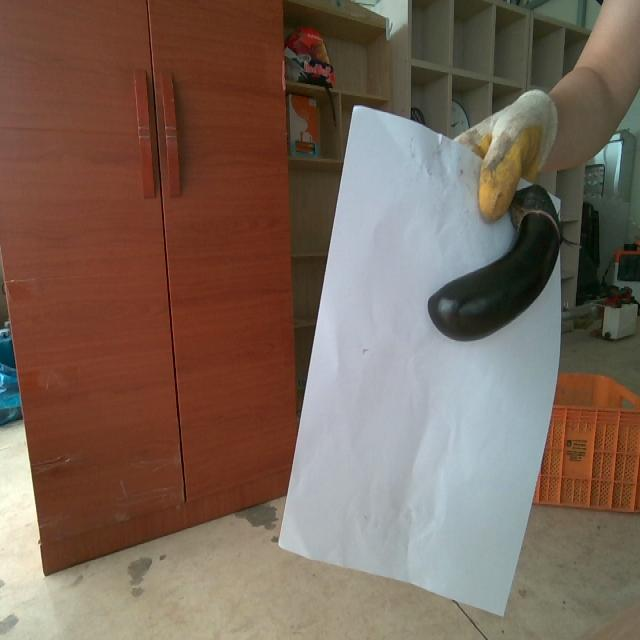Egg plant: (428, 185, 561, 340)
